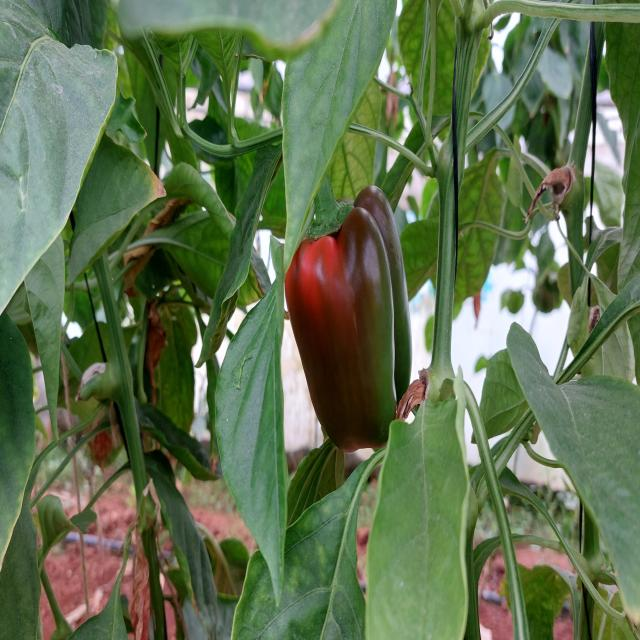BrownishRed--Can-be-Harvested: (294, 221, 428, 462)
